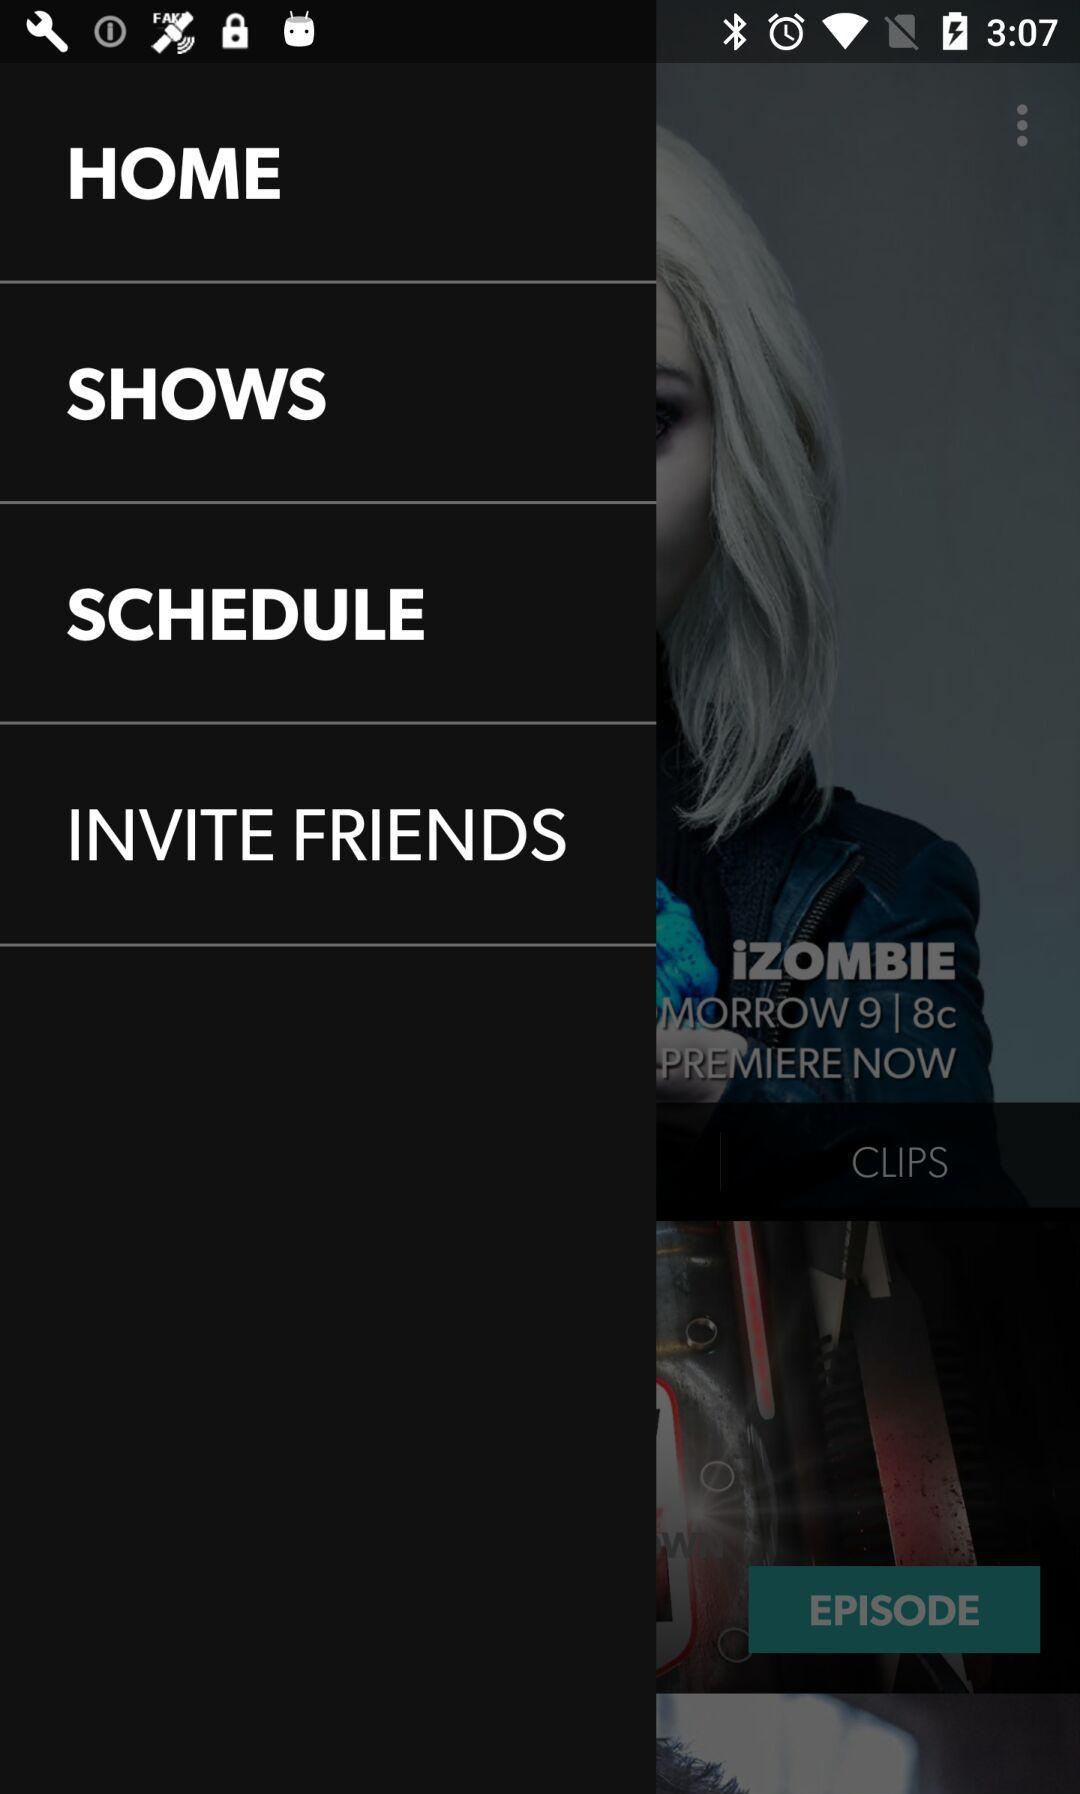Drawer: (1, 63, 657, 1794)
Text: (70, 809, 568, 862), (65, 587, 427, 643), (67, 366, 328, 423), (69, 147, 282, 202)
UpperTaskBar: (1, 1, 1080, 64)
